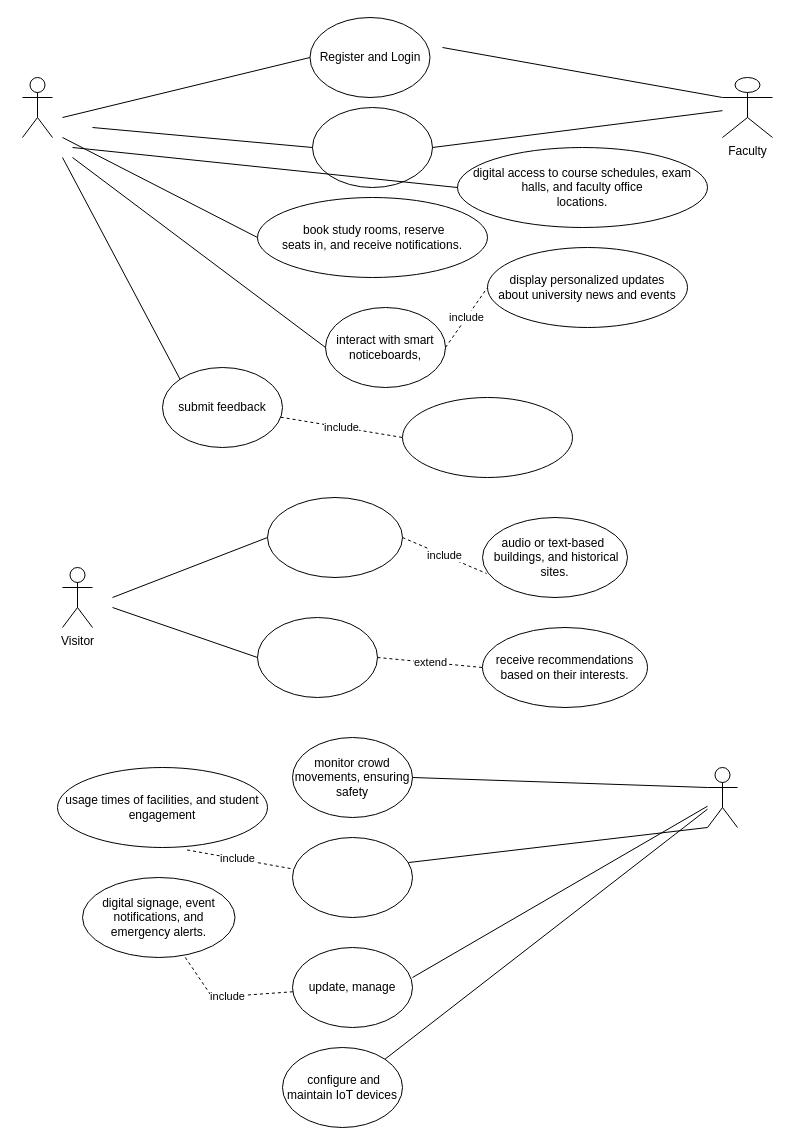
Image size: 798x1145. Some labels were removed from this diagram. Each missing label, with the centre of its shape:
"a guided tour experience, explore the campus efficiently" goes at pixel 334 537.
"book guided tours" goes at pixel 317 657.
"Campus administrator" goes at pixel 722 797.
"campus facilities and report any maintenance issues" goes at pixel 487 437.
"extract analytics" goes at pixel 352 877.
"Real time navigation" goes at pixel 372 147.
"Student" goes at pixel 37 107.
